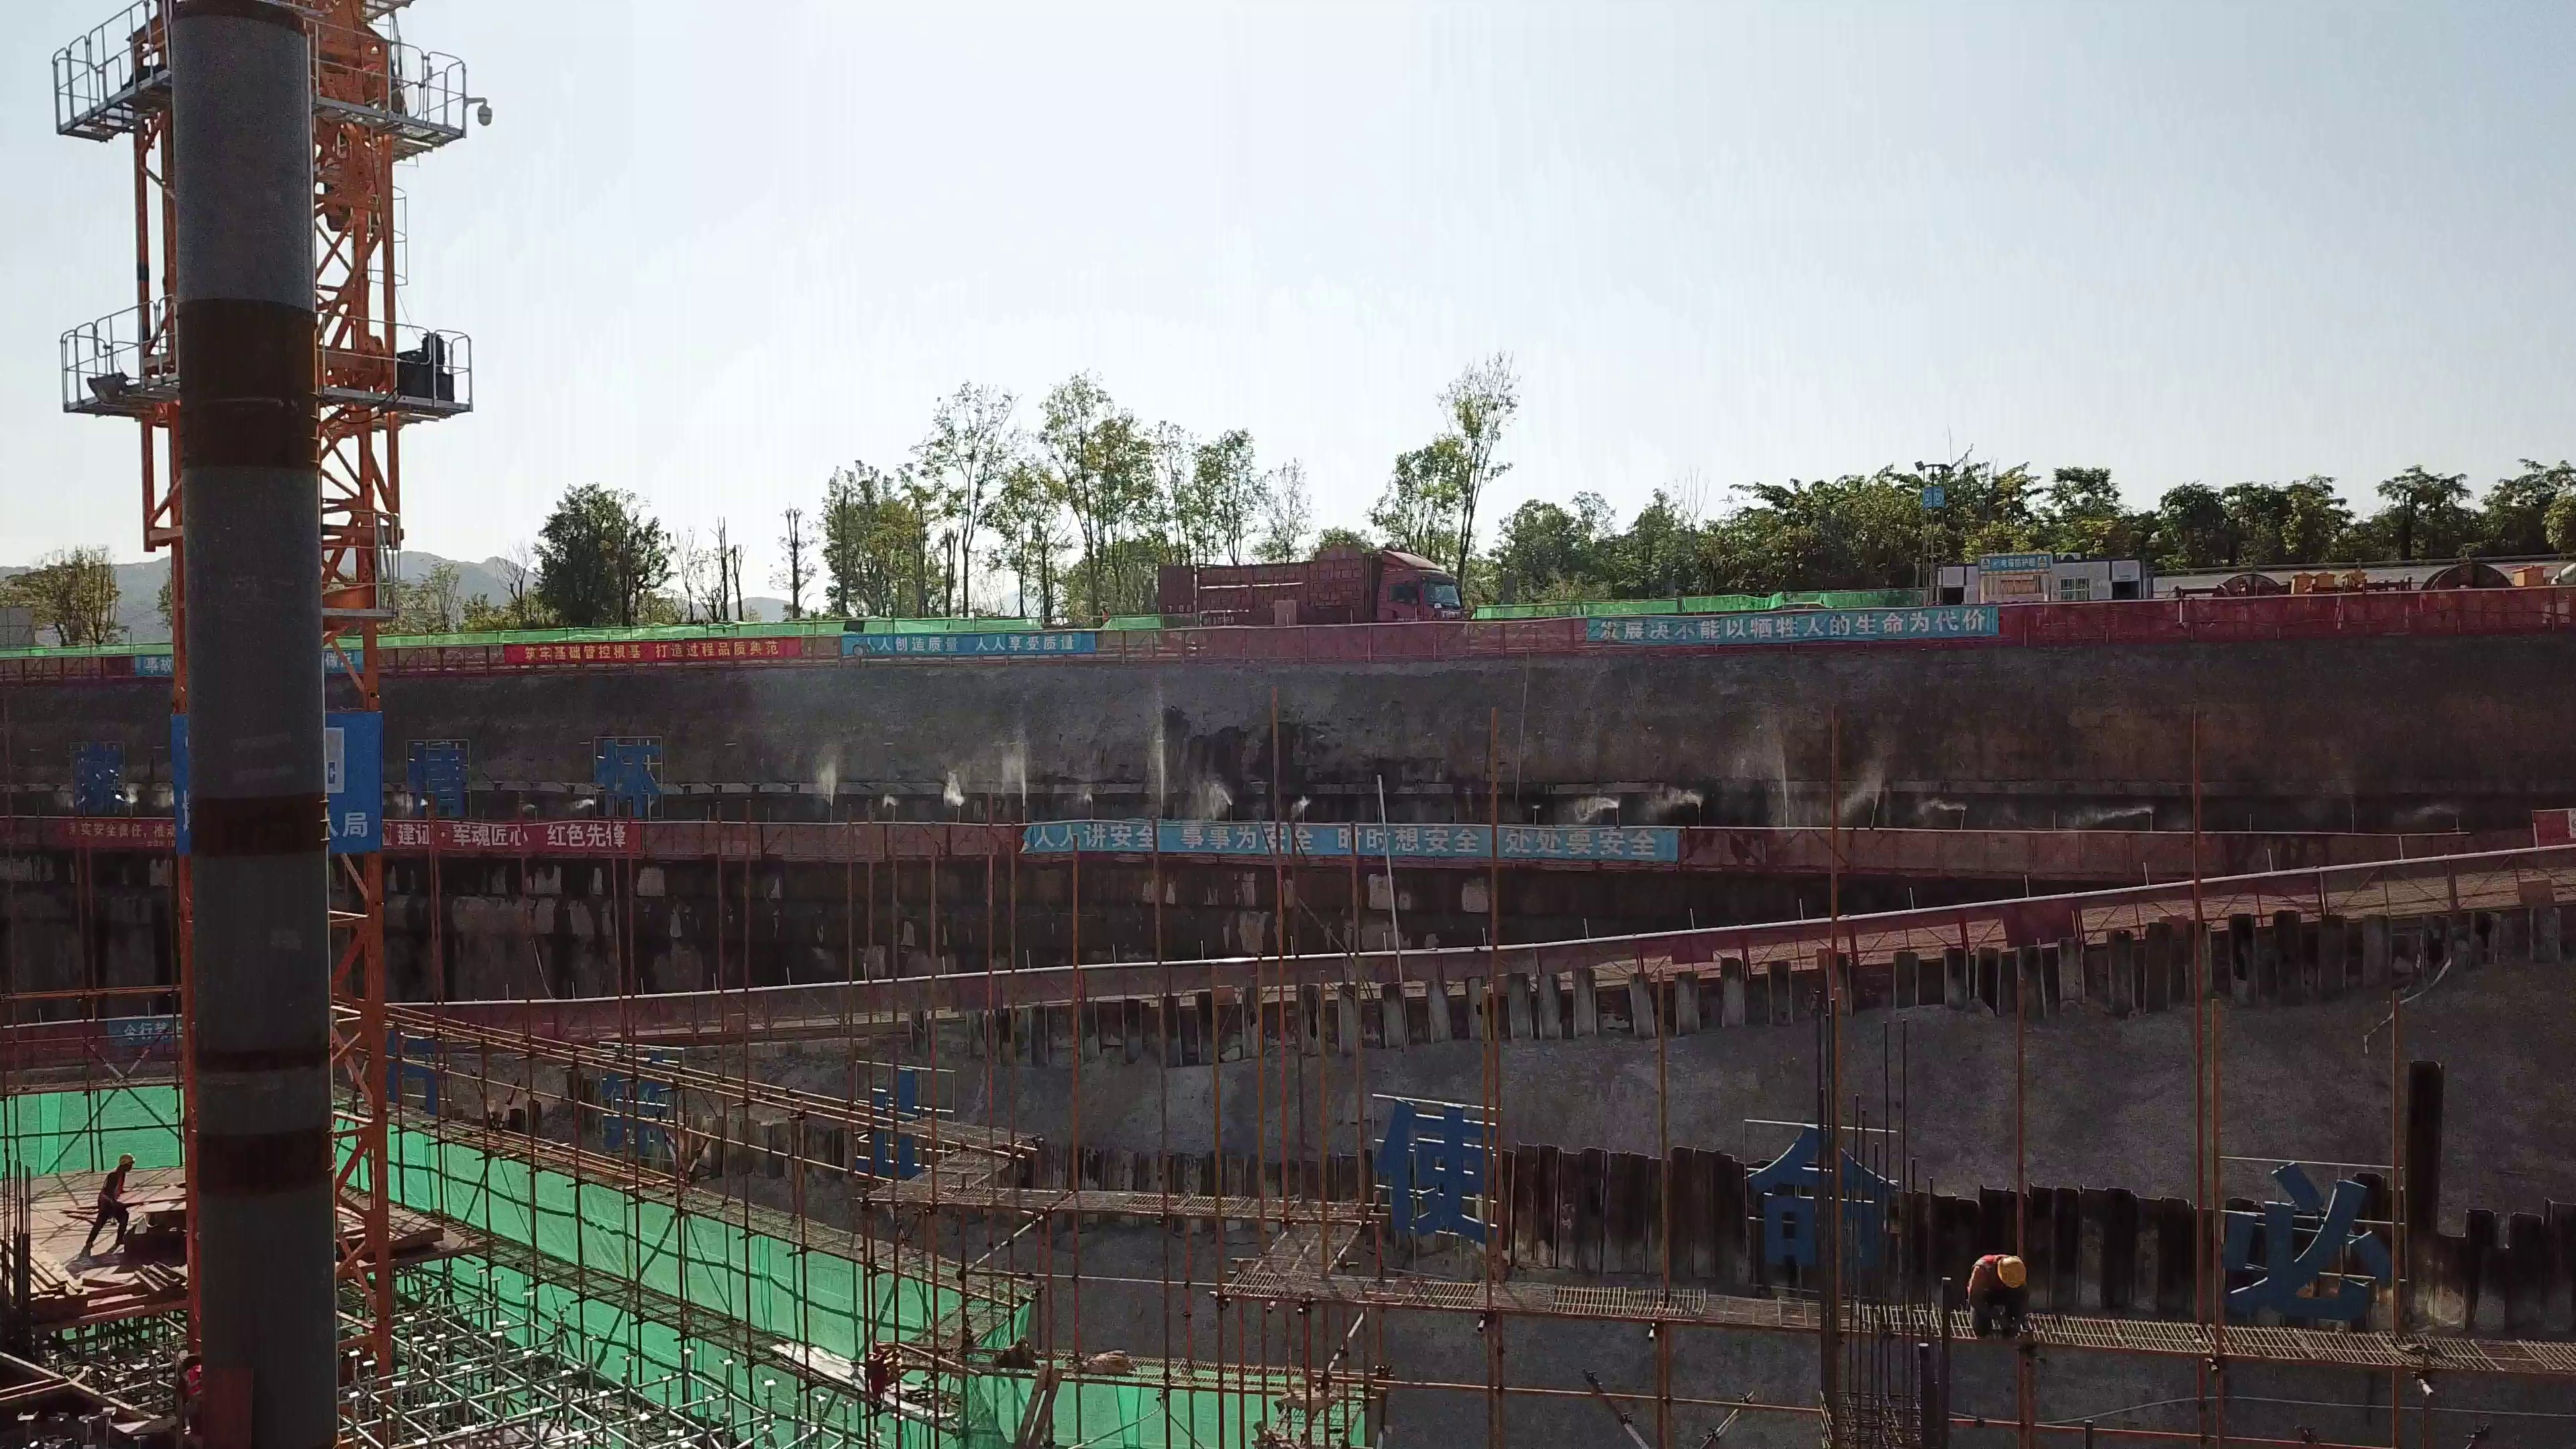fence: (2130, 857, 2567, 939), (1741, 888, 2128, 977), (2008, 590, 2557, 646), (1686, 819, 2128, 885), (1358, 929, 1745, 994), (1097, 612, 1586, 661), (643, 822, 1022, 862), (1081, 952, 1354, 1004)
helmet: (1998, 1254, 2029, 1288), (117, 1154, 133, 1169)
person: (1953, 1244, 2039, 1339), (83, 1147, 140, 1260)
slogan: (1020, 817, 1682, 861), (1583, 612, 1998, 643), (386, 811, 627, 852), (502, 635, 805, 658), (841, 633, 1092, 658), (53, 816, 174, 851)
vest: (1964, 1251, 1998, 1299), (92, 1173, 125, 1206)
